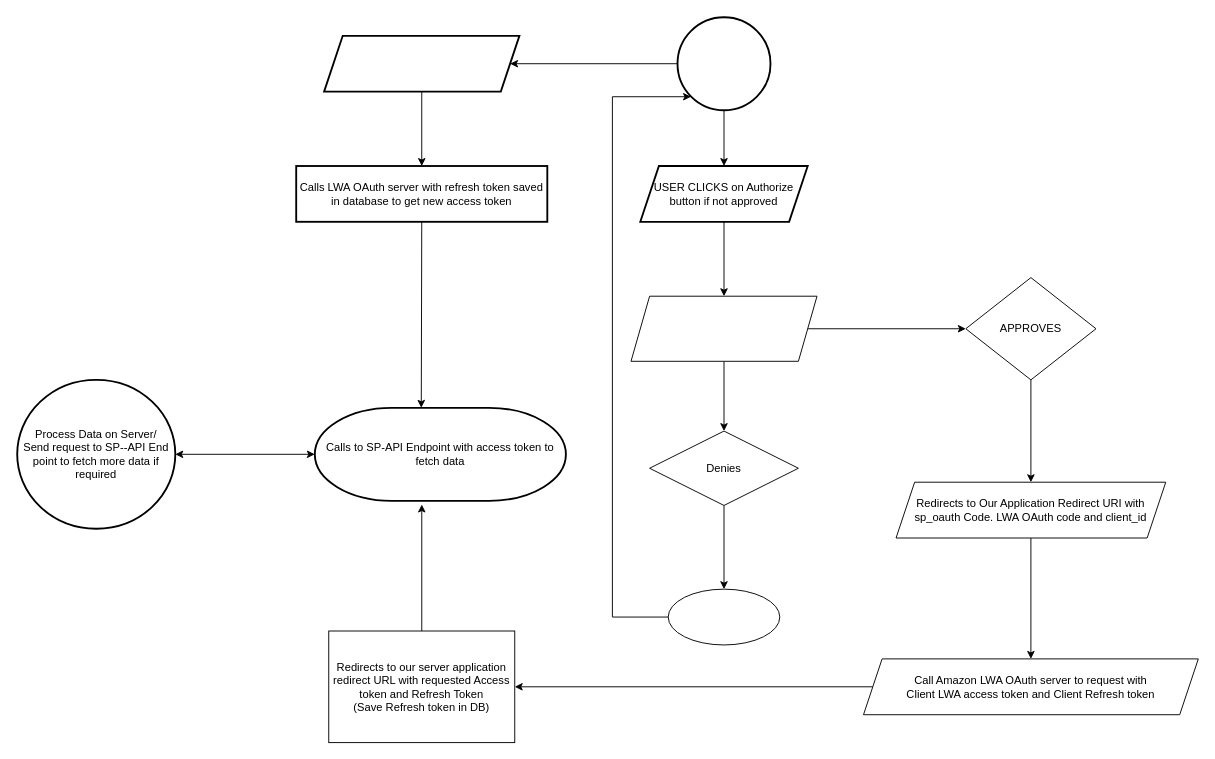
The diagram is 1215 pixels wide and 759 high, and some of its shapes have lost their labels. Here are the shapes that lost their labels. From the top down, the box of each, then its label:
(323, 34, 520, 92): User already connected and authorized
(676, 16, 771, 111): START
(630, 295, 817, 361): Redirect to Amazon for Consent
(667, 588, 780, 645): Display Landing Page/Error
